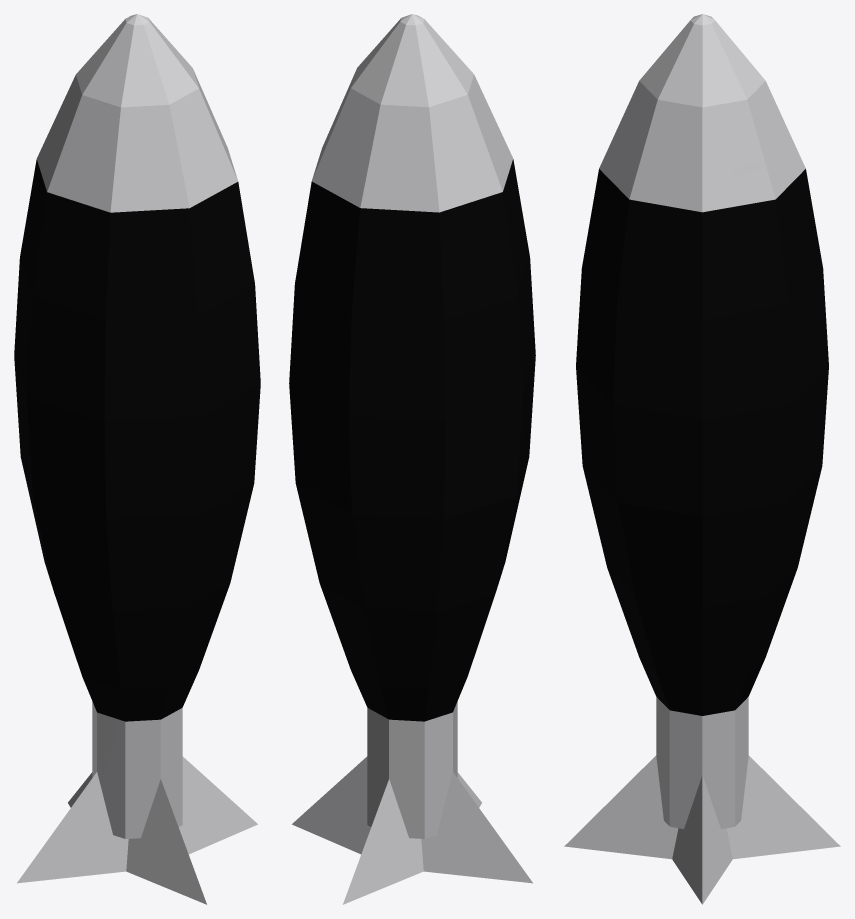
File: Mortar_Projectile.fbx
The picture shows the model from 3 angles, left to right: view 1: azimuth 30°, elevation 25°; view 2: azimuth 150°, elevation 25°; view 3: azimuth 270°, elevation 25°; orthographic projection.
Visible parts, largest first — view 1: Circle; view 2: Circle; view 3: Circle.
Boxes of the visible parts, <box> form: Circle: <box>14,14,260,904</box>; Circle: <box>289,14,535,904</box>; Circle: <box>564,14,840,904</box>.
Bounding box in the file's own units: 210 × 696 × 210.
Materials: 1 (1 with a texture image).
